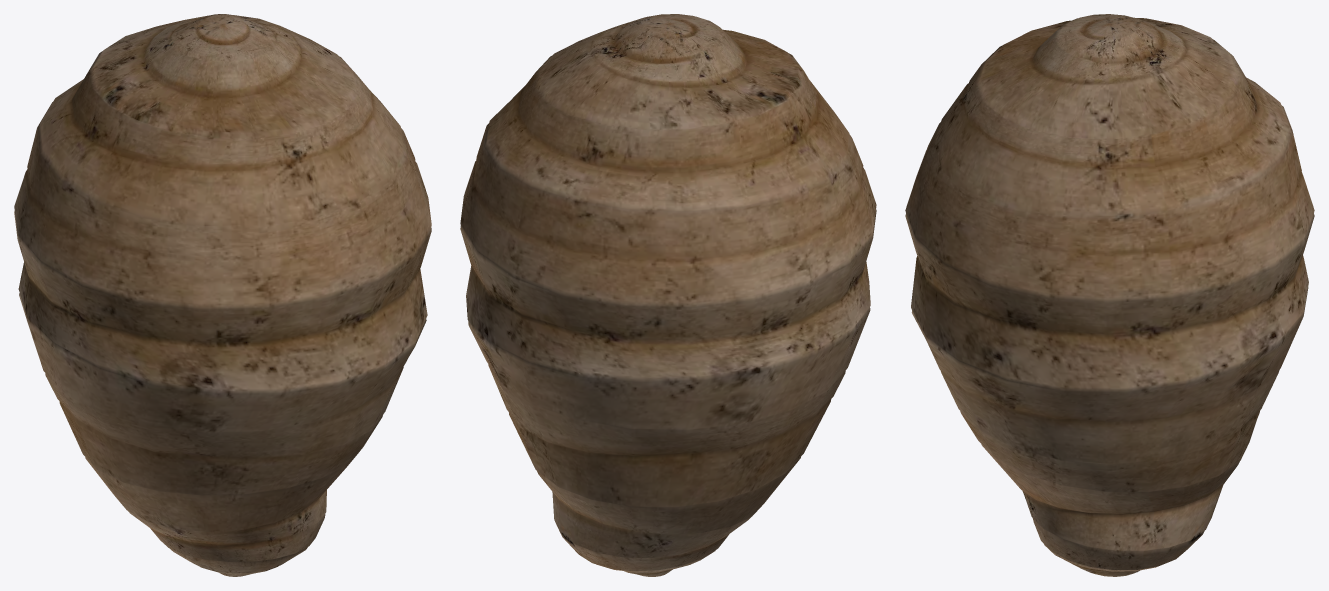
The model's file is beehive.glb.
3 views of the same model, side by side, from view 1: azimuth 30°, elevation 25°; view 2: azimuth 150°, elevation 25°; view 3: azimuth 270°, elevation 25° (orthographic). The views are drawn at different scales.
Parts seen in each view (by area): view 1: beehive; view 2: beehive; view 3: beehive.
Part boxes in pixels (x1,y1,x2,y2): beehive: (14,14,431,576); beehive: (460,14,876,576); beehive: (905,14,1314,576).
Size of the model in its own units: 0.0546 by 0.0788 by 0.0546.
Materials: 1 (1 with a texture image).
